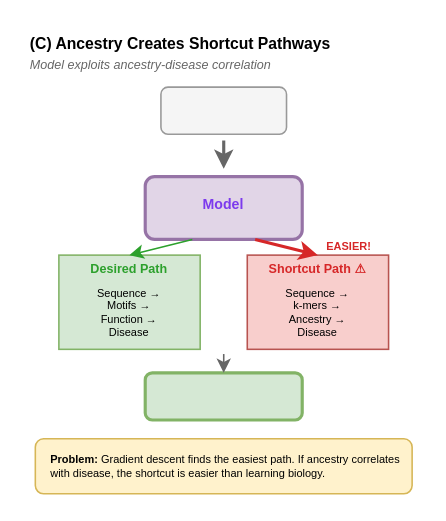
This 446x521 diagram has some shape labels left out. Each missing label, with the box of its shape:
Prediction: (143, 371, 303, 421)
Sequence: (159, 86, 287, 134)
